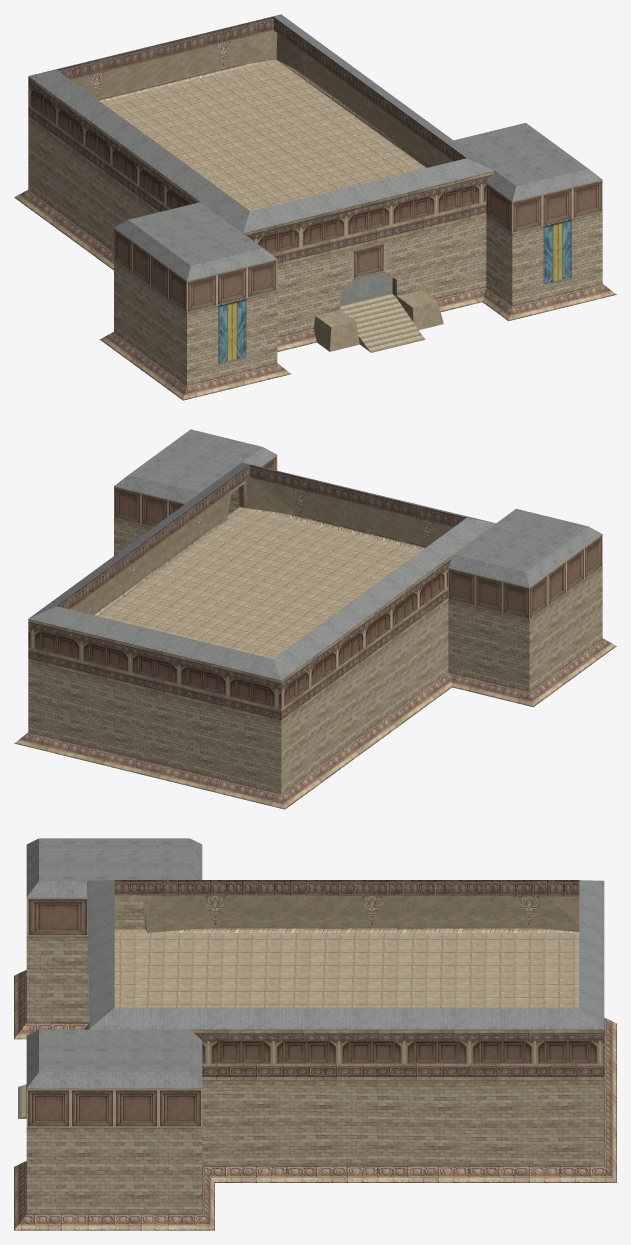
File: ply_nboo_assoc_hall_civ_s01_l2.fbx
3 renders of one model, top to bottom at view 1: azimuth 30°, elevation 25°; view 2: azimuth 150°, elevation 25°; view 3: azimuth 270°, elevation 25°, orthographic. The views are drawn at different scales.
Visible parts, largest first — view 1: mesh_node; view 2: mesh_node; view 3: mesh_node.
Boxes of the visible parts, x1,y1,x2,y2 form: mesh_node: [14, 14, 616, 400]; mesh_node: [14, 429, 616, 809]; mesh_node: [14, 838, 616, 1230].
Bounding box in the file's own units: 48 × 14 × 48.
